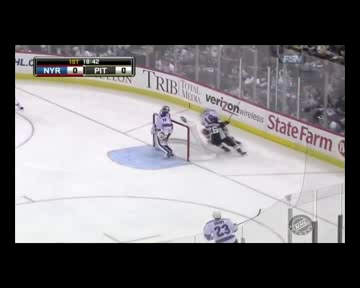normal: (145, 101, 187, 168)
